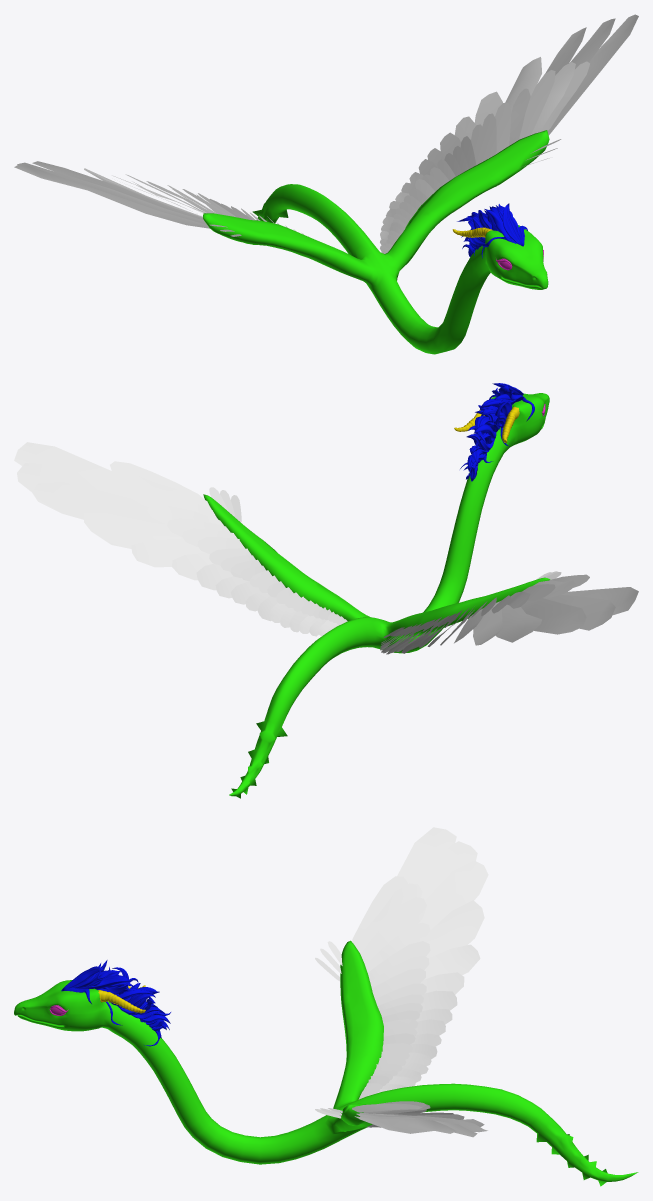
File: Occamy.fbx
3 views of the same model, one above another, from view 1: azimuth 30°, elevation 25°; view 2: azimuth 150°, elevation 25°; view 3: azimuth 270°, elevation 25° (orthographic).
Visible parts, largest first — view 1: Occamy.002, Front Feathers.001, Occamy.001; view 2: Front Feathers.001, Occamy.002, Occamy.001; view 3: Front Feathers.001, Occamy.002, Occamy.001.
Part boxes in pixels (<box>): Occamy.002: <box>203,130,549,354</box>; Front Feathers.001: <box>14,14,638,253</box>; Occamy.001: <box>457,203,527,258</box>; Front Feathers.001: <box>14,442,638,654</box>; Occamy.002: <box>203,393,550,798</box>; Occamy.001: <box>460,383,534,481</box>; Front Feathers.001: <box>315,827,488,1137</box>; Occamy.002: <box>14,940,638,1186</box>; Occamy.001: <box>61,960,170,1046</box>.
Bounding box in the file's own units: 1345 × 468 × 1200.
